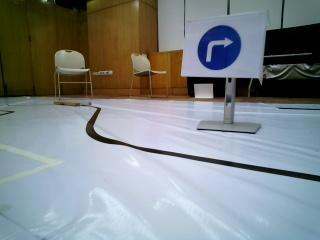right: (185, 15, 262, 77)
